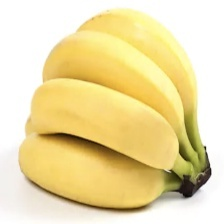banana: (1, 23, 181, 218)
